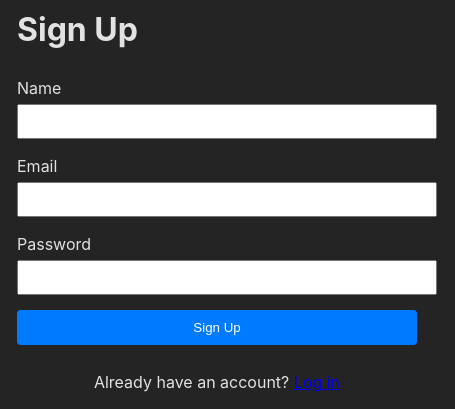
it: SignupPage › should disable submit button while submitting
Type "Test User" into the field labelled "Name" at (227, 121), box [17,104,437,139]
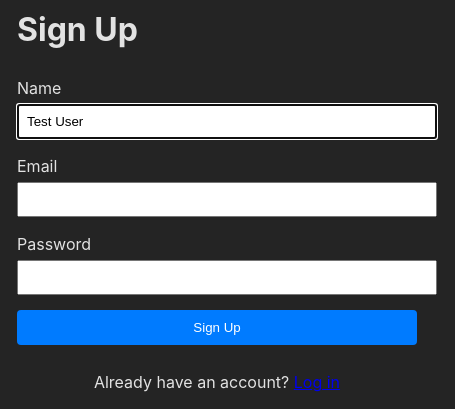
Type "test@example.com" into the field labelled "Email" at (227, 199), box [17,182,437,217]
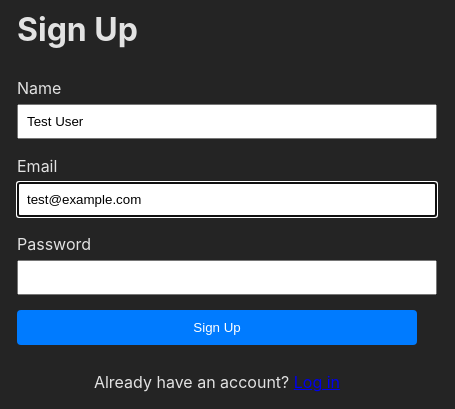
Type "Password123!" into the password field labelled "Password" at (227, 277), box [17,260,437,295]
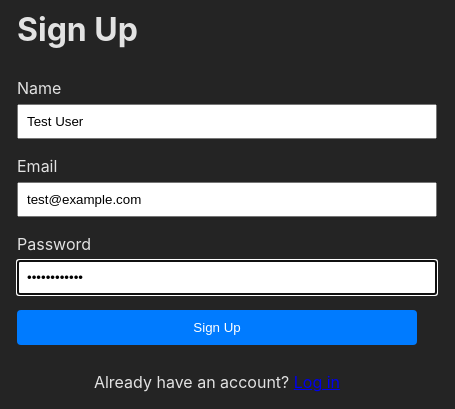
Click the button "Sign Up" at (217, 327), box [17,310,417,345]
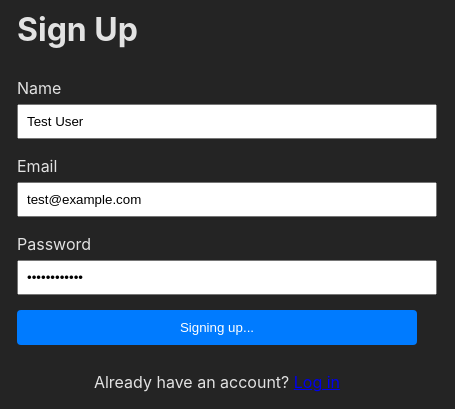
Expected: the button "Signing up..." is disabled, [17,310,417,345]
